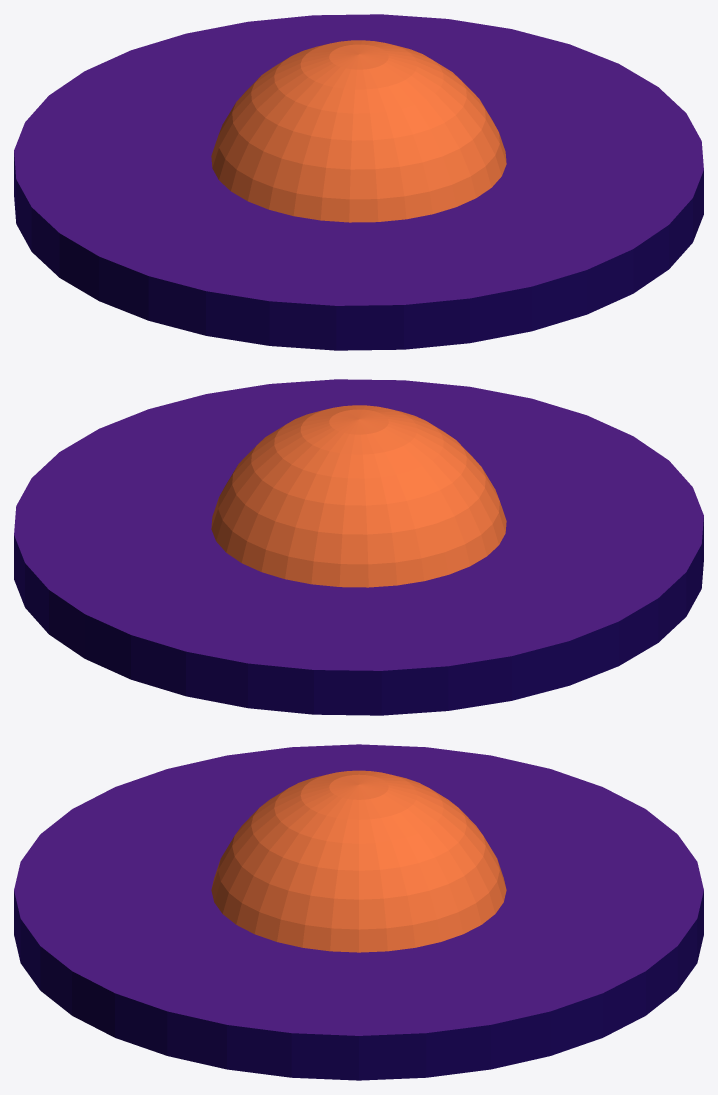
File: enemy_ship_1.glb
3 views of the same model, one above another, from view 1: azimuth 30°, elevation 25°; view 2: azimuth 150°, elevation 25°; view 3: azimuth 270°, elevation 25° (orthographic).
Visible parts, largest first — view 1: Saucer, Dome; view 2: Saucer, Dome; view 3: Saucer, Dome.
Part boxes in pixels (bbox=[...]): Saucer: bbox=[14, 14, 703, 350]; Dome: bbox=[211, 40, 506, 222]; Saucer: bbox=[14, 379, 703, 715]; Dome: bbox=[211, 405, 506, 587]; Saucer: bbox=[14, 744, 703, 1080]; Dome: bbox=[211, 770, 506, 952].
Bounding box in the file's own units: 2 × 0.5655 × 2.
1 material, 1 textured.
